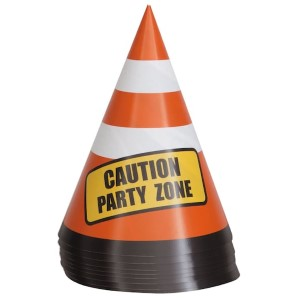traffic cone: (58, 5, 235, 242)
